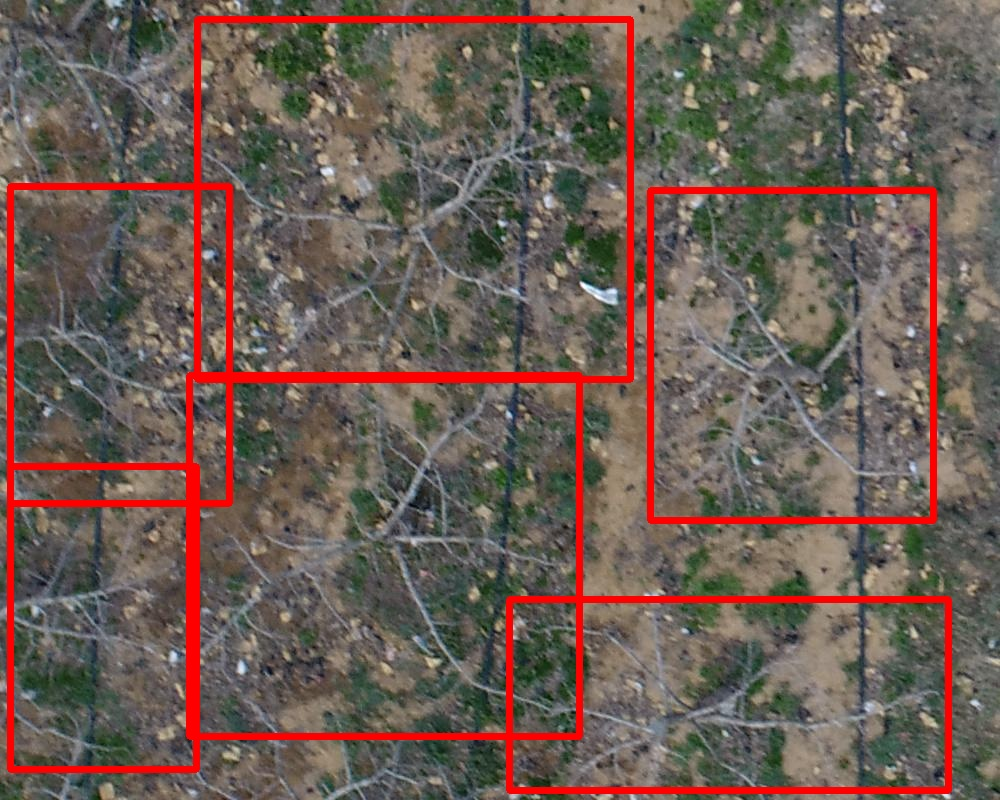apple: (197, 19, 630, 379), (189, 375, 579, 736), (650, 190, 933, 520), (509, 599, 948, 790), (10, 186, 229, 503), (10, 466, 196, 769)
